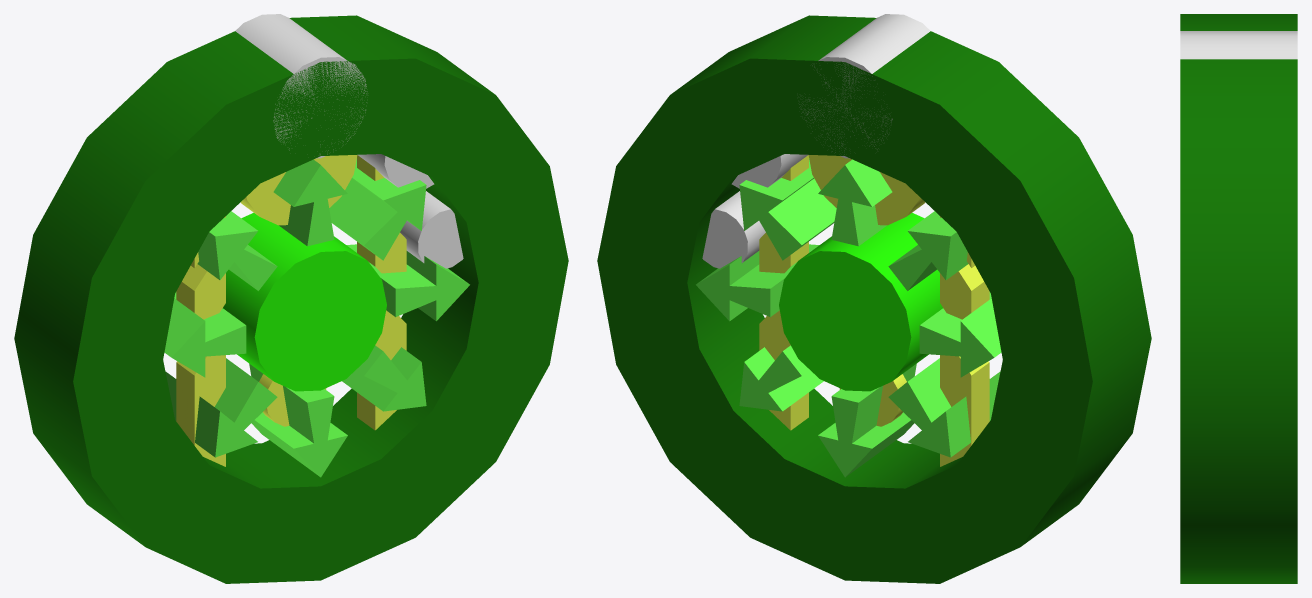
File: PowerUpsNew (1).fbx
3 views of the same model, side by side, from view 1: azimuth 30°, elevation 25°; view 2: azimuth 150°, elevation 25°; view 3: azimuth 270°, elevation 25° (orthographic).
Visible parts, largest first — view 1: SizeUp, BulletsUp, Cube, FireRateUp; view 2: SizeUp, Cube, BulletsUp, FireRateUp; view 3: SizeUp, BulletsUp.
Part boxes in pixels (x1,y1,x2,y2): SizeUp: (14,15,568,583); BulletsUp: (235,14,463,268); Cube: (176,155,406,466); FireRateUp: (240,155,357,426); SizeUp: (597,15,1151,583); Cube: (759,155,989,466); BulletsUp: (702,14,930,268); FireRateUp: (808,155,925,426); SizeUp: (1180,14,1297,583); BulletsUp: (1180,31,1297,59).
Bounding box in the file's own units: 72.97 × 73.56 × 15.
